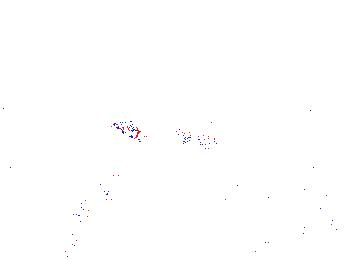X-ray fish: (73, 196, 101, 225)
glassfish: (66, 170, 121, 254), (111, 118, 219, 159)
